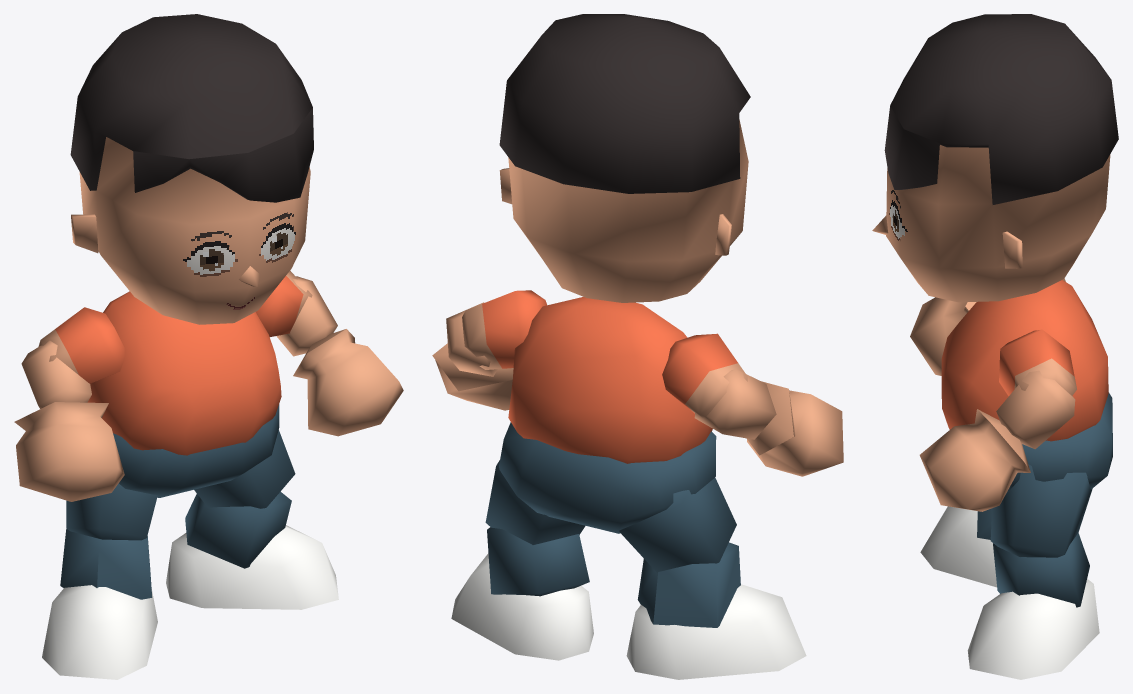
The picture shows the model from 3 angles, left to right: view 1: azimuth 30°, elevation 25°; view 2: azimuth 150°, elevation 25°; view 3: azimuth 270°, elevation 25°; orthographic projection. The views are drawn at different scales.
Parts seen in each view (by area): view 1: Character; view 2: Character; view 3: Character.
Boxes of the visible parts, <box> form: Character: <box>14,14,403,679</box>; Character: <box>432,14,843,679</box>; Character: <box>872,14,1118,679</box>.
Bounding box in the file's own units: 1.98 × 2.87 × 1.11.
Materials: 9 (2 with a texture image).
